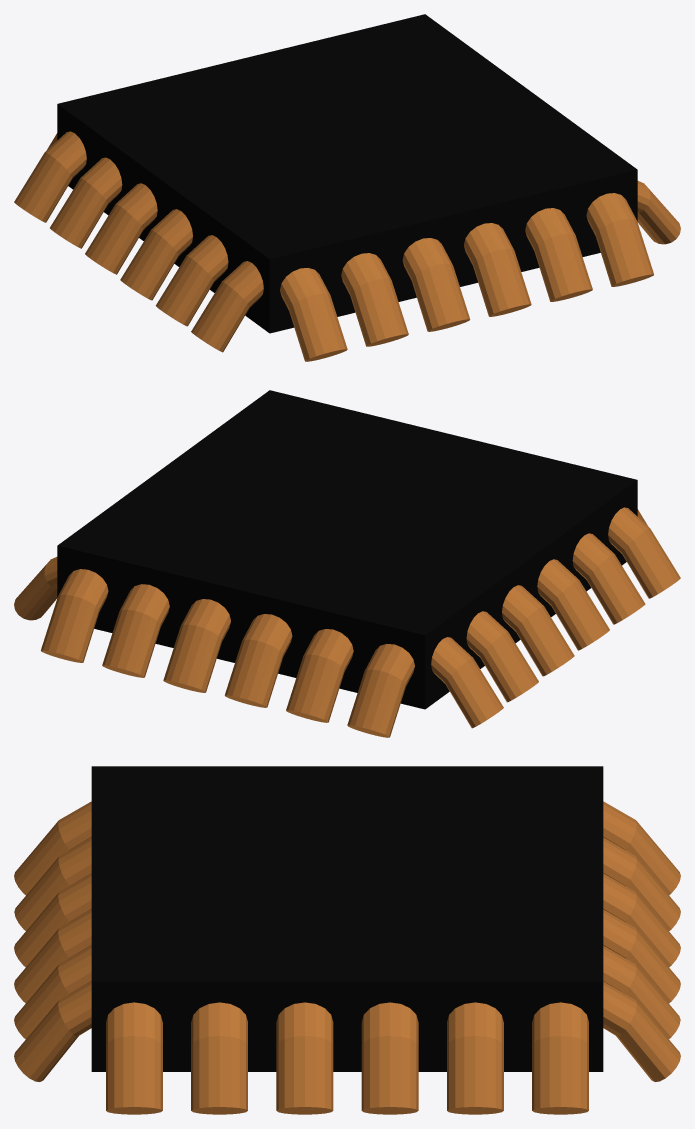
3 renders of one model, top to bottom at view 1: azimuth 30°, elevation 25°; view 2: azimuth 150°, elevation 25°; view 3: azimuth 270°, elevation 25°, orthographic. The views are drawn at different scales.
Parts seen in each view (by area): view 1: IC body, Cylinder.018, Cylinder.020, Cylinder.022, Cylinder.021, Cylinder.023, Cylinder.019, Cylinder.017, Cylinder.014, Cylinder.012, Cylinder.016, Cylinder.015 (+2 smaller); view 2: IC body, Cylinder.011, Cylinder.008, Cylinder.009, Cylinder.006, Cylinder.010, Cylinder.007, Cylinder.012, Cylinder.015, Cylinder.016, Cylinder.017, Cylinder.014 (+2 smaller); view 3: IC body, Cylinder.002, Cylinder.003, Cylinder.004, Cylinder.005, Cylinder, Cylinder.001, Cylinder.006, Cylinder.023, Cylinder.008, Cylinder.018, Cylinder.011 (+7 smaller).
Boxes of the visible parts, x1,y1,x2,y2 form: IC body: (57, 14, 637, 333); Cylinder.018: (280, 268, 347, 361); Cylinder.020: (402, 238, 470, 331); Cylinder.022: (525, 208, 592, 301); Cylinder.021: (464, 223, 531, 316); Cylinder.023: (586, 193, 653, 286); Cylinder.019: (341, 253, 408, 346); Cylinder.017: (191, 261, 263, 352); Cylinder.014: (85, 183, 157, 274); Cylinder.012: (14, 131, 86, 222); Cylinder.016: (155, 235, 228, 326); Cylinder.015: (120, 209, 192, 300); IC body: (57, 390, 637, 709); Cylinder.011: (347, 644, 414, 737); Cylinder.008: (163, 599, 230, 692); Cylinder.009: (224, 614, 292, 707); Cylinder.006: (41, 569, 108, 662); Cylinder.010: (286, 629, 353, 722); Cylinder.007: (102, 584, 169, 677); Cylinder.012: (431, 637, 503, 728); Cylinder.015: (537, 559, 609, 650); Cylinder.016: (572, 533, 645, 624); Cylinder.017: (608, 507, 680, 598); Cylinder.014: (502, 585, 574, 676); IC body: (91, 766, 603, 1071); Cylinder.002: (276, 1002, 333, 1114); Cylinder.003: (361, 1002, 418, 1114); Cylinder.004: (447, 1002, 503, 1114); Cylinder.005: (532, 1002, 588, 1114); Cylinder: (106, 1002, 162, 1114); Cylinder.001: (191, 1002, 247, 1114); Cylinder.006: (603, 981, 680, 1081); Cylinder.023: (14, 981, 91, 1081); Cylinder.008: (603, 909, 680, 1003); Cylinder.018: (14, 801, 91, 895); Cylinder.011: (603, 801, 680, 895).
Size of the model in its own units: 78.24 by 14.53 by 78.24.
